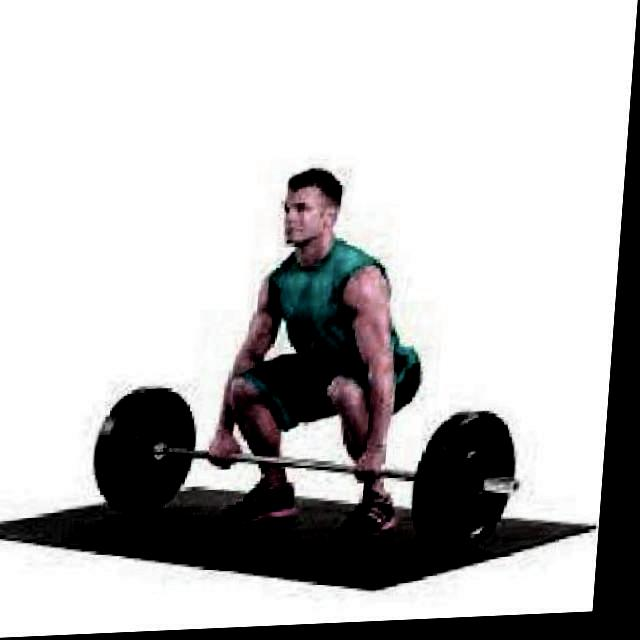barbell: (427, 410, 539, 565)
